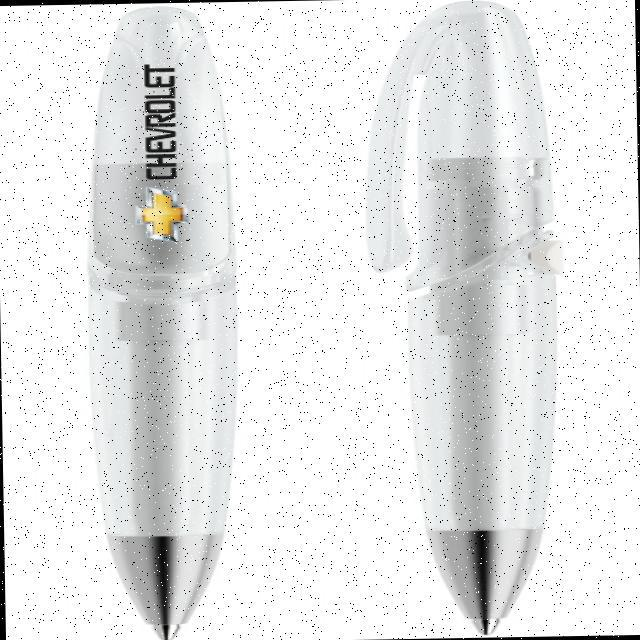Chevrolet: (126, 62, 194, 244)
